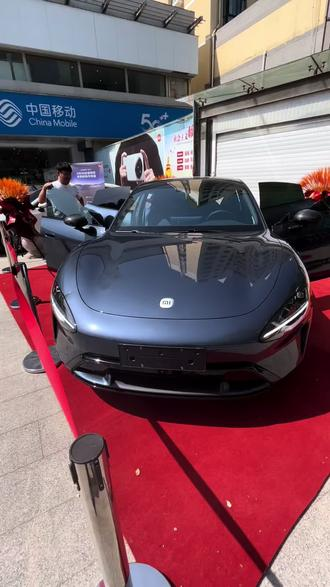su7: (44, 182, 310, 398)
